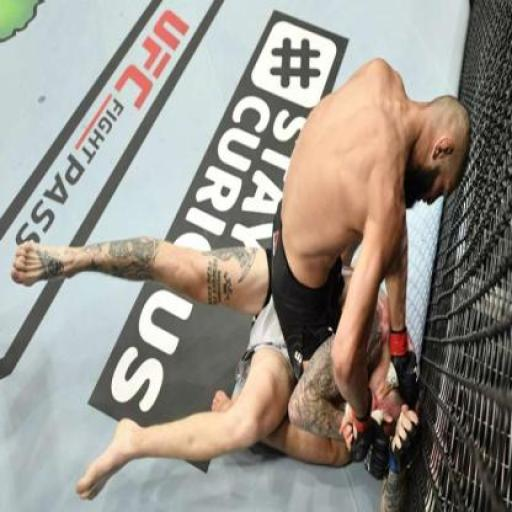Fighting: (12, 57, 474, 499)
